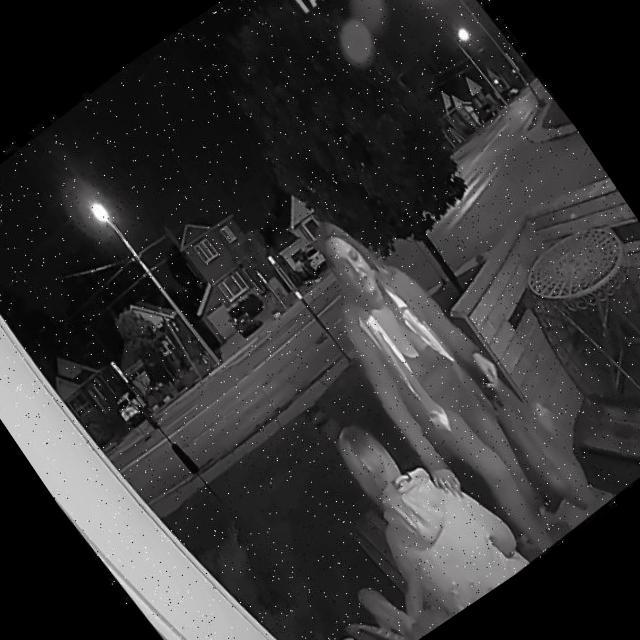person: (276, 190, 608, 590), (275, 375, 532, 640)
